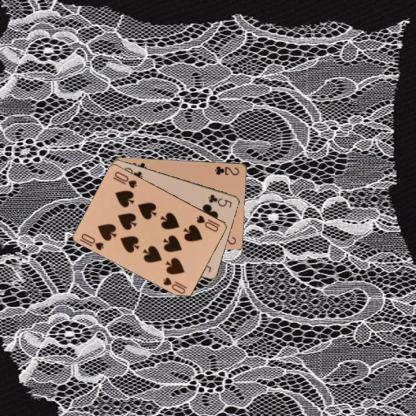10s: (193, 212, 222, 233), (79, 231, 105, 252)
2c: (212, 163, 240, 177)
5c: (206, 191, 233, 209)
